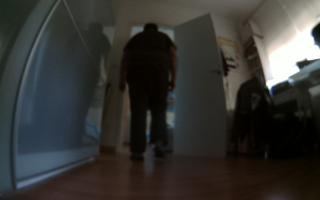person: (116, 19, 180, 165)
